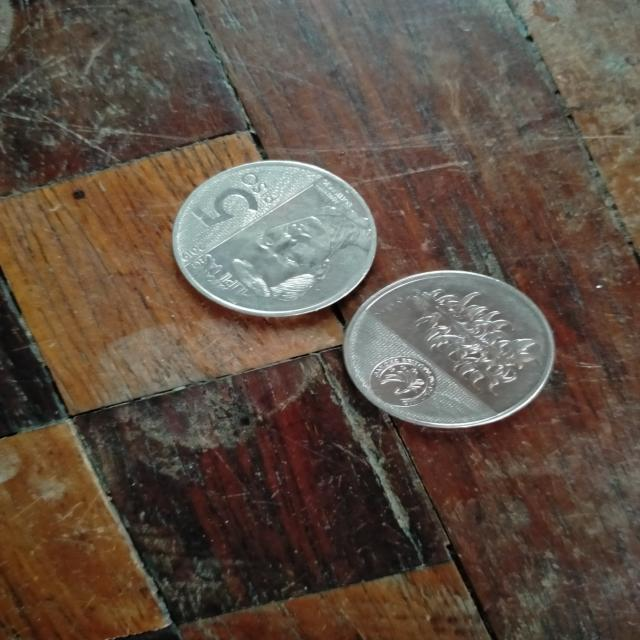5_New_Back: (392, 276, 540, 396)
5_New_Front: (178, 159, 288, 241)
